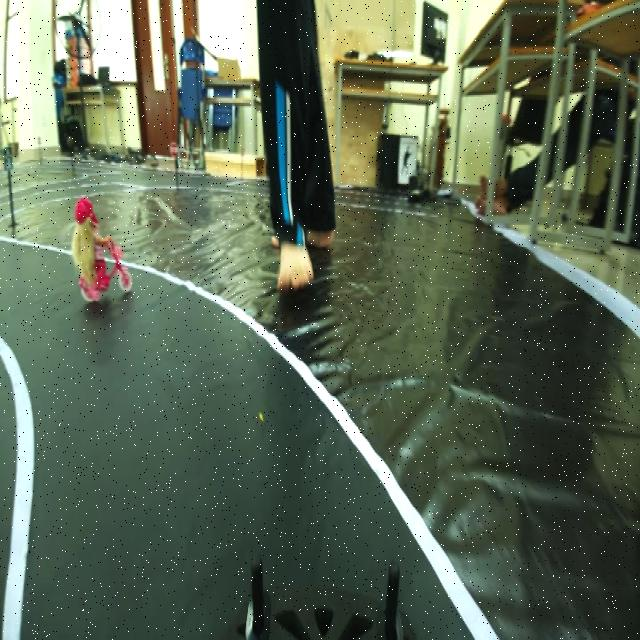pedestrian: (63, 198, 139, 307)
